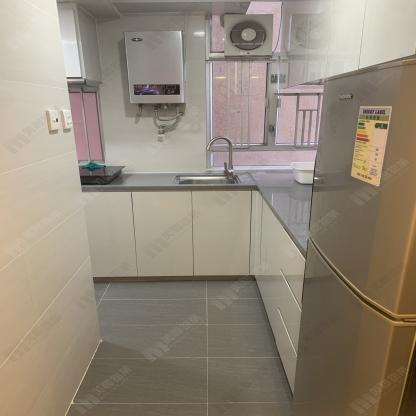Cupboard: (79, 191, 305, 392)
Exhaust Fan: (223, 14, 273, 56)
Faucet: (204, 135, 239, 179)
Fridge: (289, 59, 416, 414)
Sink: (174, 174, 236, 184)
